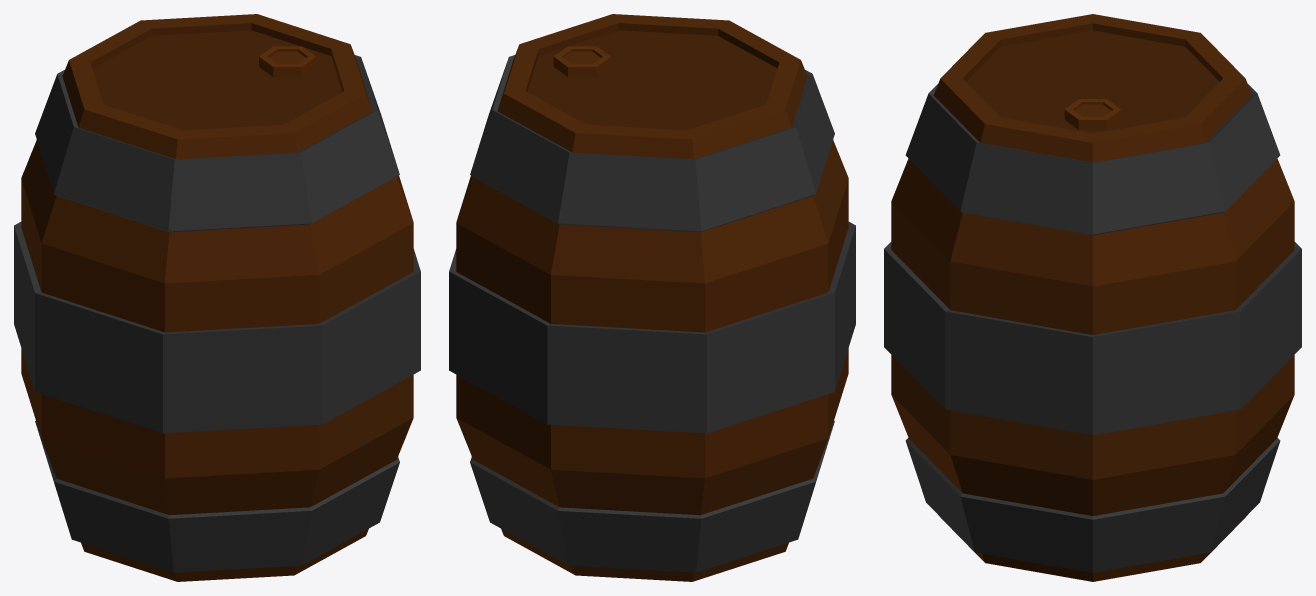
The model's file is Barrel.fbx.
The picture shows the model from 3 angles, left to right: view 1: azimuth 30°, elevation 25°; view 2: azimuth 150°, elevation 25°; view 3: azimuth 270°, elevation 25°; orthographic projection.
Parts seen in each view (by area): view 1: Barrel_01; view 2: Barrel_01; view 3: Barrel_01.
Part boxes in pixels (left/top/right/bottom): Barrel_01: left=14, top=14, right=420, bottom=581; Barrel_01: left=449, top=14, right=855, bottom=581; Barrel_01: left=884, top=14, right=1301, bottom=581.
Bounding box in the file's own units: 141 × 164 × 141.
